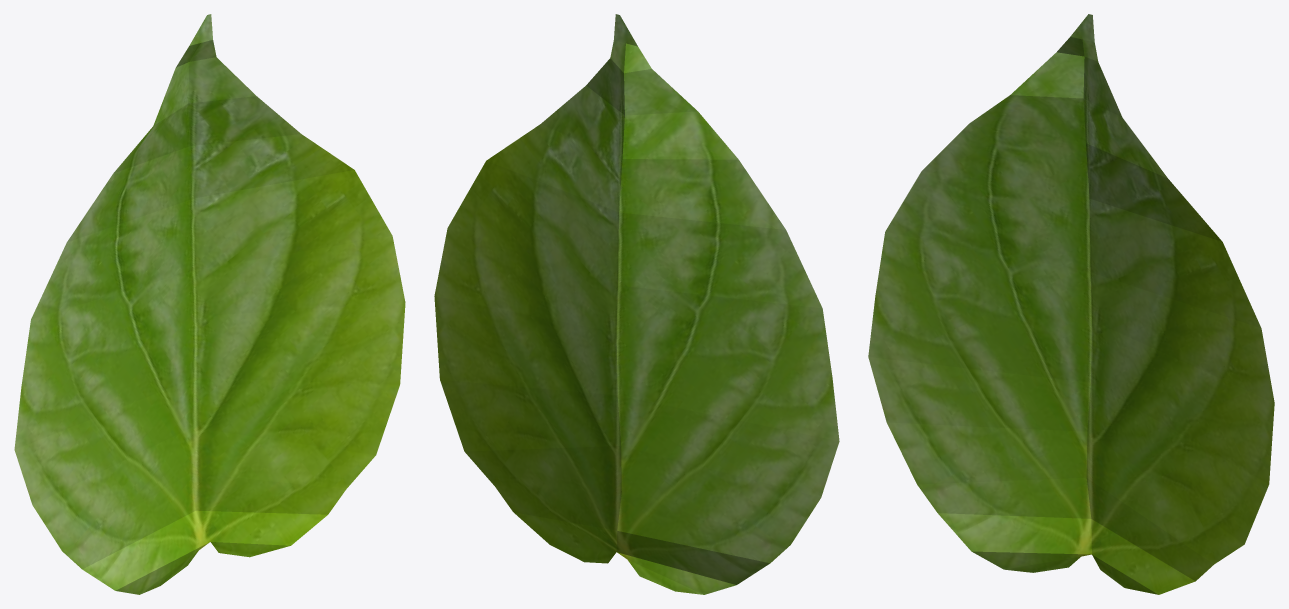
File: sirih.glb
The picture shows the model from 3 angles, left to right: view 1: azimuth 30°, elevation 25°; view 2: azimuth 150°, elevation 25°; view 3: azimuth 330°, elevation 25°; orthographic projection. The views are drawn at different scales.
Visible parts, largest first — view 1: Plane; view 2: Plane; view 3: Plane.
Boxes of the visible parts, x1,y1,x2,y2 form: Plane: (14,14,405,594); Plane: (434,14,839,594); Plane: (868,14,1274,594).
Bounding box in the file's own units: 0.1668 × 0.2249 × 0.0134.
1 material, 1 textured.
